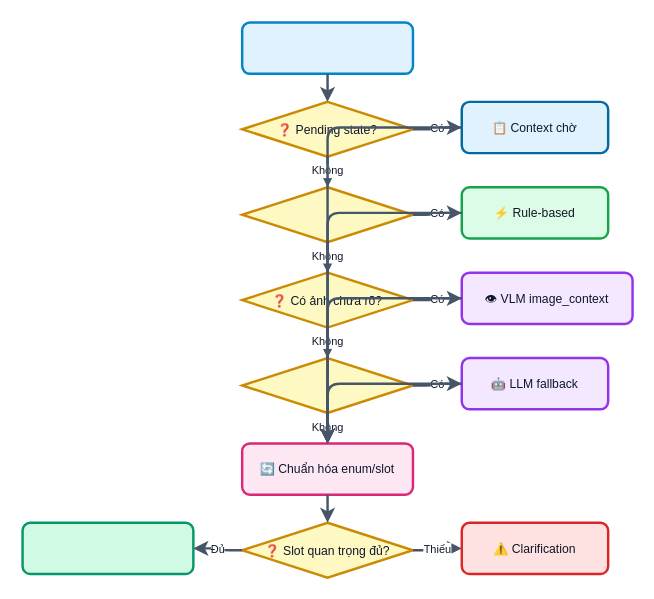
This 654x599 diagram has some shape labels left out. The shapes that lost their labels are listed below. From the top down, each one's box as (x1, y1, x2, y2) in pixels, then its label:
(240, 21, 414, 74): 👤 Request (text / ảnh)
(240, 185, 414, 243): ❓ Luật rõ & keyword?
(240, 356, 414, 414): ❓ Văn bản mơ hồ?
(21, 521, 194, 575): ✅ resolve_route()
